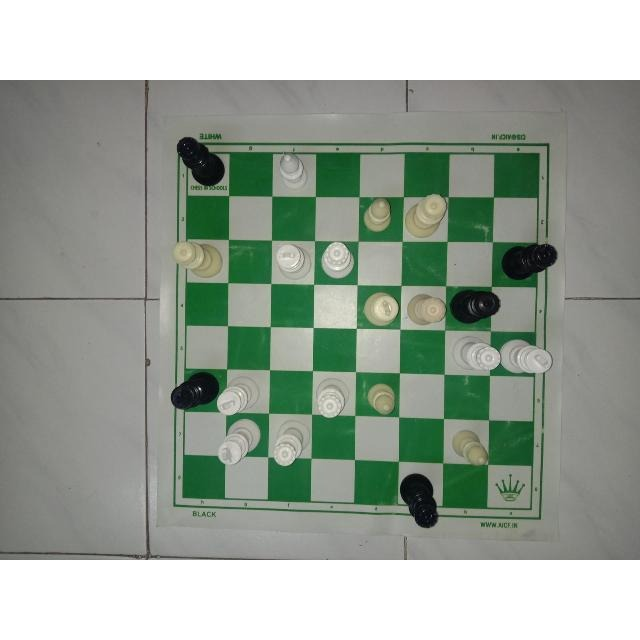black-king: (170, 373, 226, 417)
black-queen: (173, 129, 229, 189), (399, 467, 446, 529), (497, 236, 559, 282), (451, 288, 501, 330)
white-bishop: (275, 143, 313, 197), (453, 422, 493, 470), (363, 196, 396, 242), (366, 380, 402, 418)
white-king: (211, 380, 269, 420), (216, 422, 262, 472), (500, 339, 554, 379), (271, 241, 314, 282), (364, 289, 404, 333)
white-queen: (173, 234, 223, 280), (449, 335, 503, 375), (270, 422, 311, 474), (312, 371, 354, 421), (400, 288, 447, 332), (401, 194, 447, 237), (312, 242, 359, 282)
